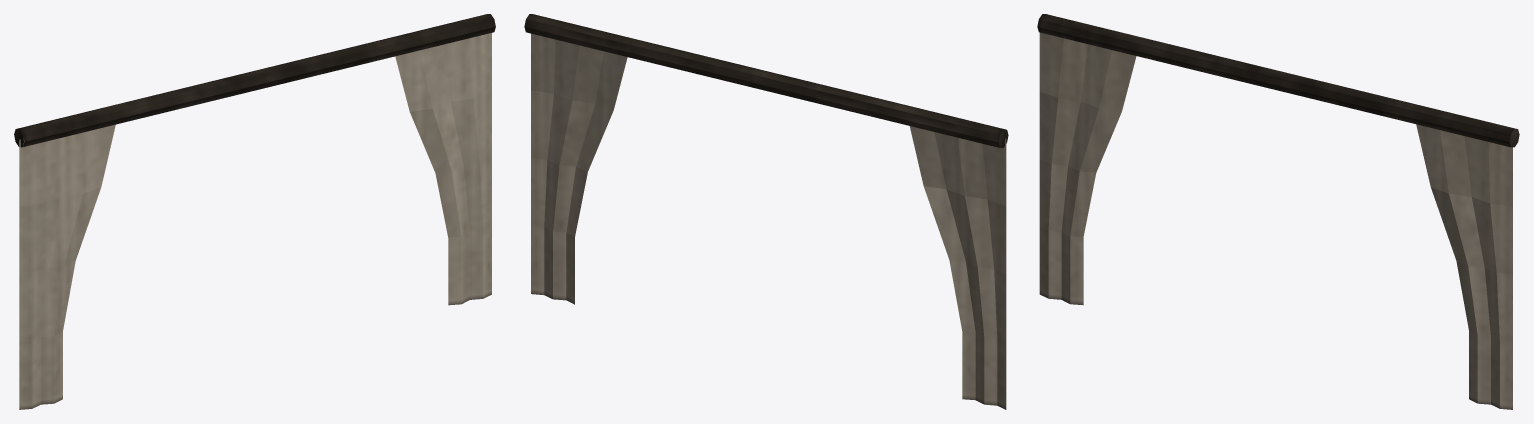
The model's file is SM_EC_House_Curtain_00.fbx.
3 renders of one model, left to right at view 1: azimuth 30°, elevation 25°; view 2: azimuth 150°, elevation 25°; view 3: azimuth 330°, elevation 25°, orthographic.
Parts seen in each view (by area): view 1: SM_EC_House_Curtain_00; view 2: SM_EC_House_Curtain_00; view 3: SM_EC_House_Curtain_00.
Boxes of the visible parts, <box> form: SM_EC_House_Curtain_00: <box>14,14,495,409</box>; SM_EC_House_Curtain_00: <box>524,14,1008,409</box>; SM_EC_House_Curtain_00: <box>1037,14,1519,409</box>.
Size of the model in its own units: 3.01 by 0.1112 by 1.7.
